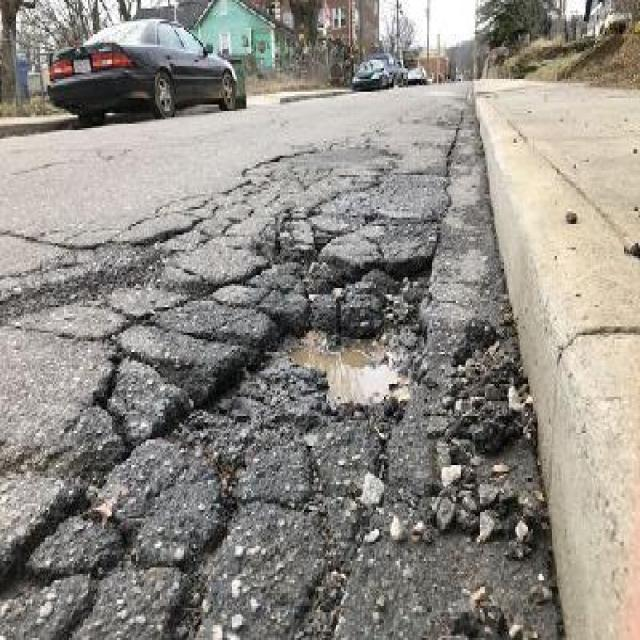Pothole: (153, 251, 438, 456)
